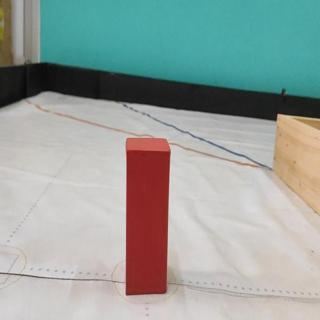redbox: (125, 135, 170, 295)
